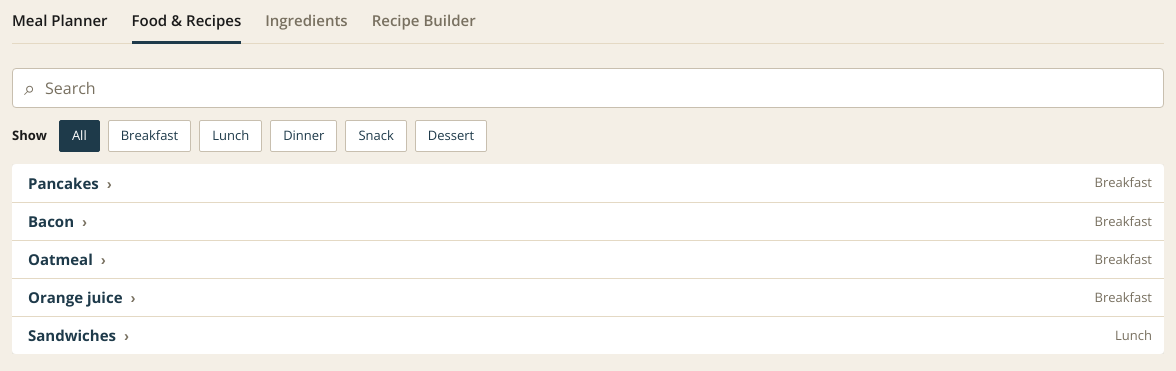
Test: MenuMonsterShelfTool hub, tabs › RecipeLibraryTab_NarrowsByMeal_WhenAFilterIsPressed
Click the button "Lunch". click: click(231, 136)
box: x1=199 y1=120 x2=262 y2=152
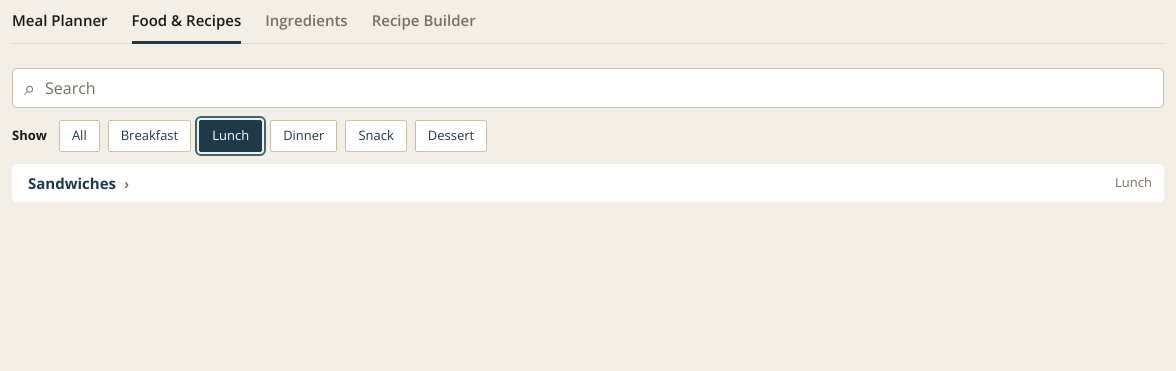
expect the button "Pancakes" is gone: met
